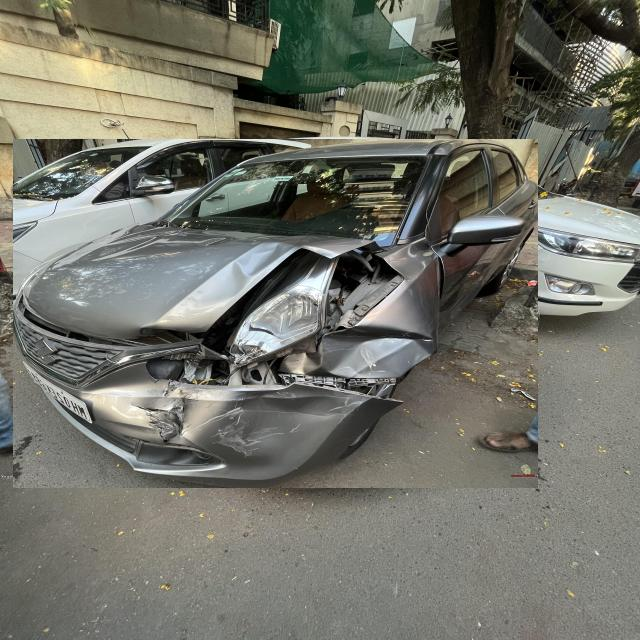accident: (13, 140, 538, 488)
car: (242, 136, 640, 315)
